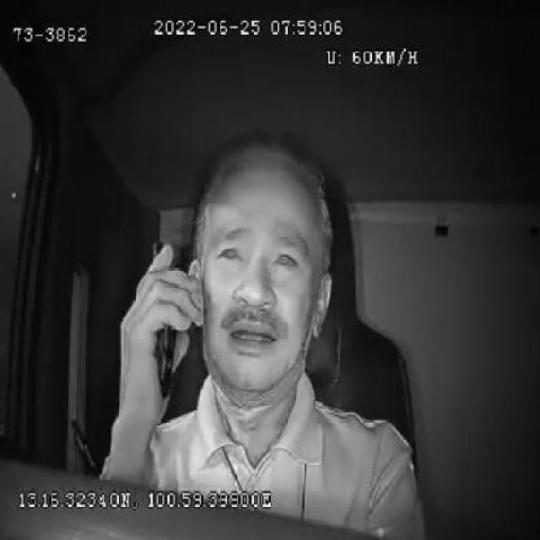phone: (150, 234, 184, 402)
